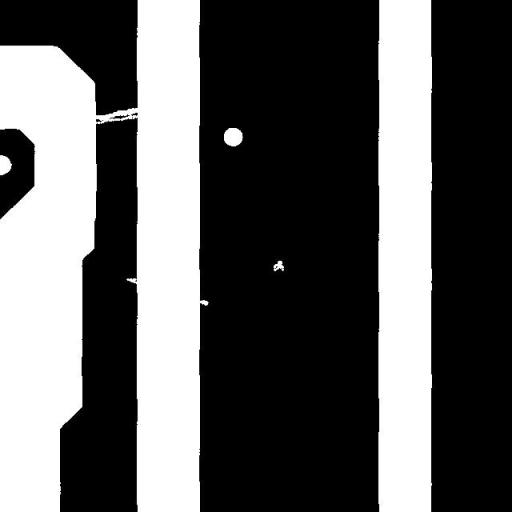mousebite: (118, 270, 148, 292), (191, 292, 216, 313)
open: (84, 100, 147, 131)
pin-hole: (266, 253, 291, 278)
